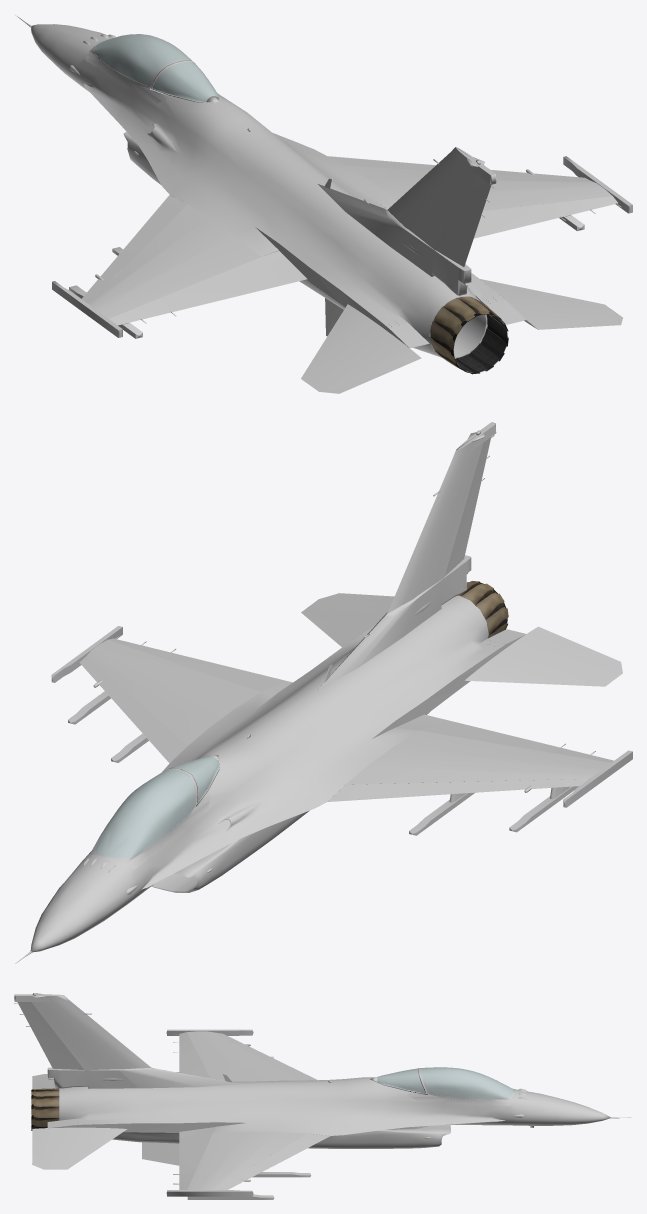
3 views of the same model, one above another, from view 1: azimuth 30°, elevation 25°; view 2: azimuth 150°, elevation 25°; view 3: azimuth 270°, elevation 25° (orthographic). The views are drawn at different scales.
Parts seen in each view (by area): view 1: airplane512, elevatorl512, canopyGlass512, flapl512, elevatorr512, rudder512, flapr512, canopy512, pylons512; view 2: airplane512, canopyGlass512, elevatorl512, elevatorr512, pylons512, flapl512, flapr512, rudder512, canopy512; view 3: airplane512, canopyGlass512, elevatorr512, rudder512, flapr512, canopy512, pylons512, flapl512, nozzlee512.
Boxes of the visible parts, box(x1,y1,x2,y2) form: airplane512: box(15, 15, 632, 358); elevatorl512: box(301, 304, 421, 393); canopyGlass512: box(93, 34, 219, 101); flapl512: box(159, 250, 307, 312); elevatorr512: box(480, 279, 622, 329); rudder512: box(436, 175, 494, 266); flapr512: box(474, 203, 559, 238); canopy512: box(85, 43, 194, 103); pylons512: box(69, 215, 584, 338); airplane512: box(15, 422, 632, 963); canopyGlass512: box(93, 756, 218, 858); elevatorl512: box(465, 626, 622, 686); elevatorr512: box(301, 593, 394, 647); pylons512: box(68, 691, 579, 835); flapl512: box(397, 714, 559, 751); flapr512: box(160, 653, 292, 696); rudder512: box(444, 435, 494, 576); canopy512: box(86, 769, 211, 869); airplane512: box(14, 993, 630, 1196); canopyGlass512: box(377, 1067, 514, 1099); elevatorr512: box(32, 1127, 127, 1169); rudder512: box(14, 1002, 83, 1069); flapr512: box(179, 1127, 215, 1174); canopy512: box(408, 1068, 514, 1105); pylons512: box(187, 1056, 311, 1199); flapl512: box(179, 1049, 209, 1078); nozzlee512: box(31, 1106, 59, 1117).
Size of the model in its own units: 9.17 by 4.28 by 14.82.
